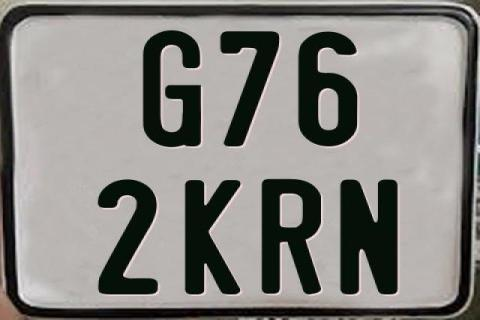0: (97, 179, 161, 299), (297, 31, 358, 151), (218, 31, 281, 146)
G: (142, 31, 202, 150)
K: (185, 177, 244, 293)
N: (340, 177, 404, 296)
R: (262, 177, 327, 292)
